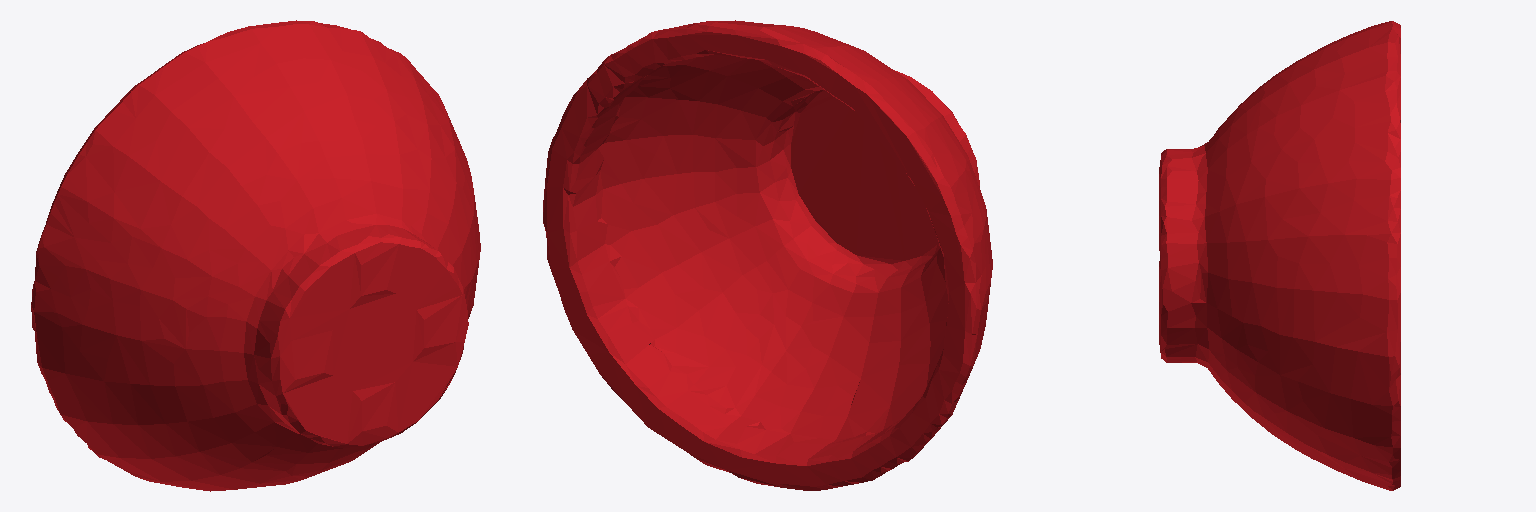
robot.urdf — bowl:
<?xml version="1.0" ?>
<robot name="bowl">
  <link name="world"/>
  <joint name="cube_to_world" type="floating">
    <parent link="world"/>
    <child link="base_link"/>
    <origin xyz="0 0 0" rpy="0 0 0" />
  </joint>
  <link name="base_link">
    <inertial>
       <origin rpy="0 0 0" xyz="0 0 0"/>
       <mass value="4.0083676543268085"/>
       <inertia ixx="0.03484476909493787" ixy="6.717315378084582e-06" ixz="-3.640021981352976e-05" iyx="6.717315378084582e-06" iyy="0.051600245729595436" iyz="1.4073370860846184e-05" izx="-3.640021981352976e-05" izy="1.4073370860846184e-05" izz="0.034848576735390324"/>
    </inertial>
    <visual>
      <origin rpy="0 0 0" xyz="0 0 0"/>
      <geometry> <mesh filename="bowl.obj" scale="1.0 1.0 1.0"/> </geometry>
      <material name="white"> <color rgba="0.7843137254901961 0.1411764705882353 0.17254901960784313 0.8"/> </material>
    </visual>
    <collision>
      <origin rpy="0 0 0" xyz="0 0 0"/>
      <geometry> <mesh filename="bowl.obj" scale="1.0 1.0 1.0"/> </geometry>
    </collision>
  </link>
</robot>

--- What the picture shows (computed from the rendered views, not written in the file) ---
Views: 3 orthographic renders of the robot side by side, from view 1: azimuth 30°, elevation 25°; view 2: azimuth 150°, elevation 25°; view 3: azimuth 270°, elevation 25°.
Robot: bowl — 2 links, 1 joints (1 floating); root link world; default pose: all joints at 0.
Links seen in each view (by area): view 1: base_link; view 2: base_link; view 3: base_link.
Link boxes in pixels (bbox=[...]): base_link: bbox=[31, 20, 480, 491]; base_link: bbox=[543, 20, 992, 490]; base_link: bbox=[1159, 21, 1400, 490].
Bounding box of the posed robot: 0.2994 × 0.1542 × 0.2992 m (x, y, z).
Meshes: 1 distinct files referenced, 1 mesh visuals loaded (1 OBJ).